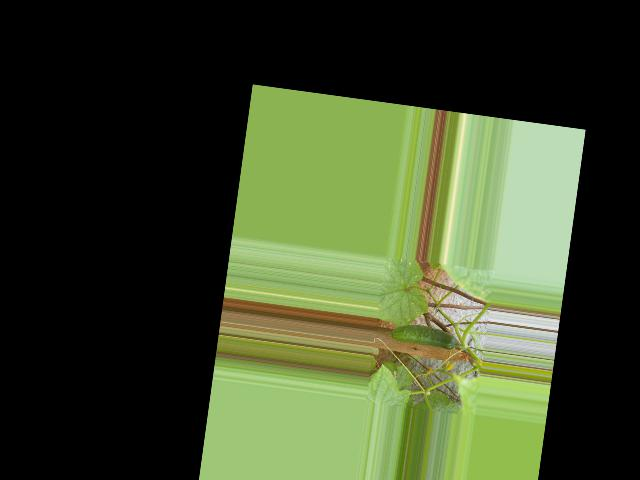cucumber: (389, 321, 458, 350)
